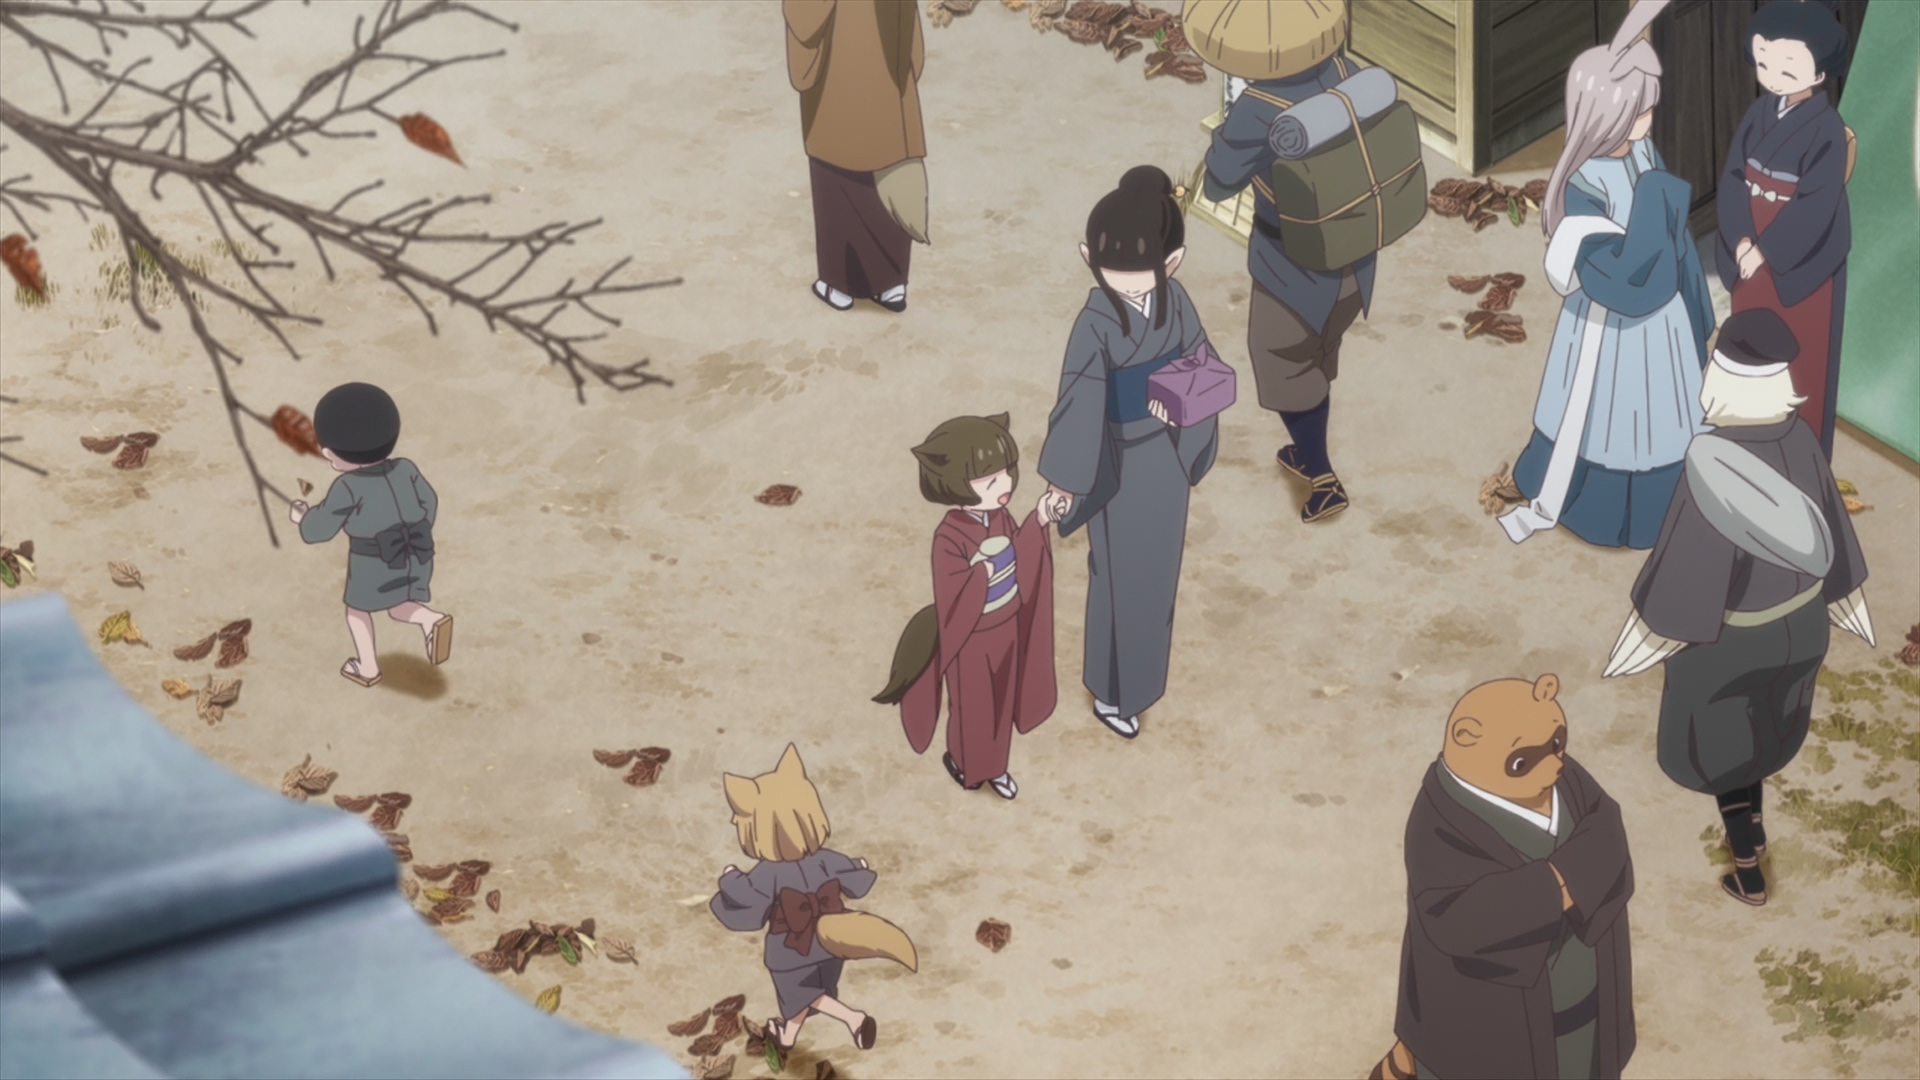其他: (1605, 311, 1873, 906), (1180, 1, 1425, 522), (1501, 1, 1716, 549), (1036, 164, 1236, 738), (1371, 675, 1640, 1080), (870, 411, 1058, 802), (1716, 1, 1859, 469), (712, 742, 918, 1065), (289, 378, 452, 687), (781, 1, 930, 313)
